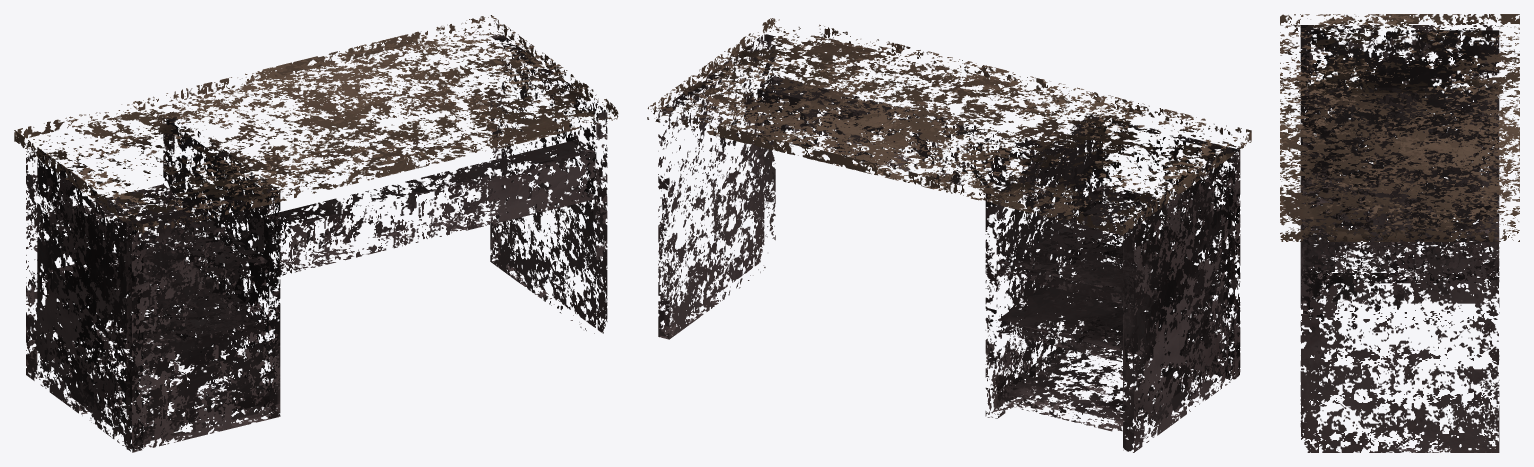
File: work_bench.obj
3 renders of one model, left to right at view 1: azimuth 30°, elevation 25°; view 2: azimuth 150°, elevation 25°; view 3: azimuth 270°, elevation 25°, orthographic. The views are drawn at different scales.
Visible parts, largest first — view 1: Work_Bench; view 2: Work_Bench; view 3: Work_Bench.
Boxes of the visible parts, x1=… form: Work_Bench: x1=14, y1=15, x2=618, y2=452; Work_Bench: x1=647, y1=18, x2=1251, y2=452; Work_Bench: x1=1280, y1=14, x2=1519, y2=452.
Size of the model in its own units: 150 by 71.44 by 70.
